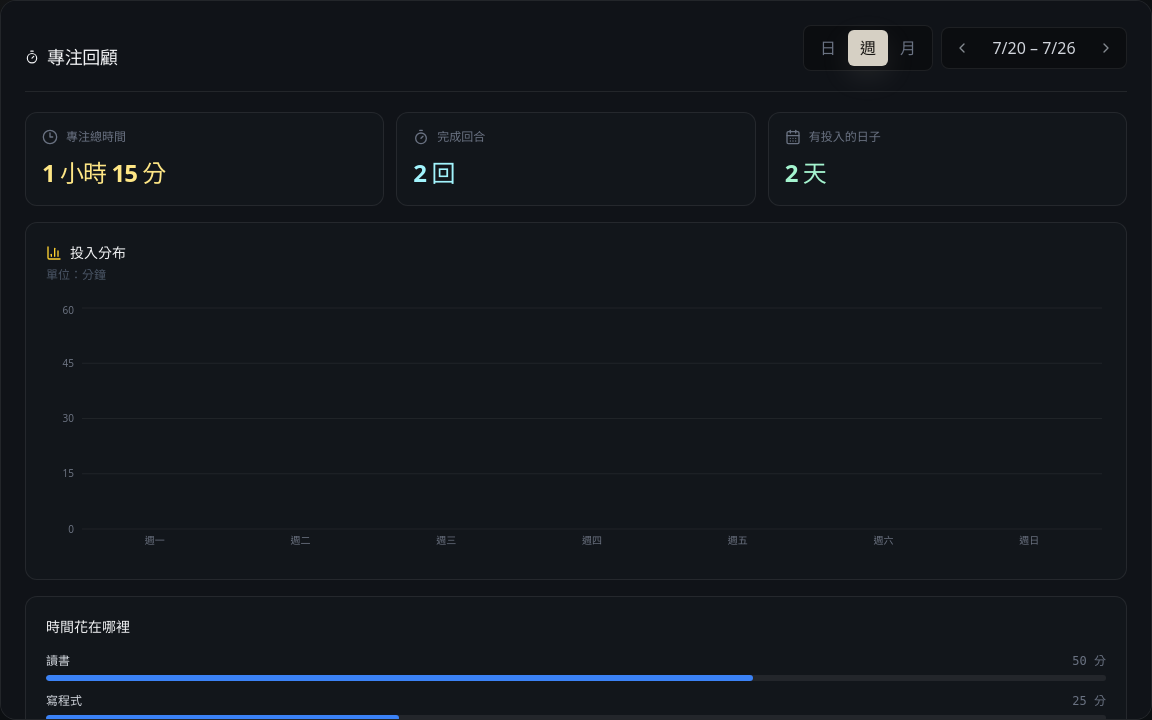
Test case: FocusDashboard › switches between week and month totals
Click the button "月" at coordinates (908, 48), box [888,30,928,66]
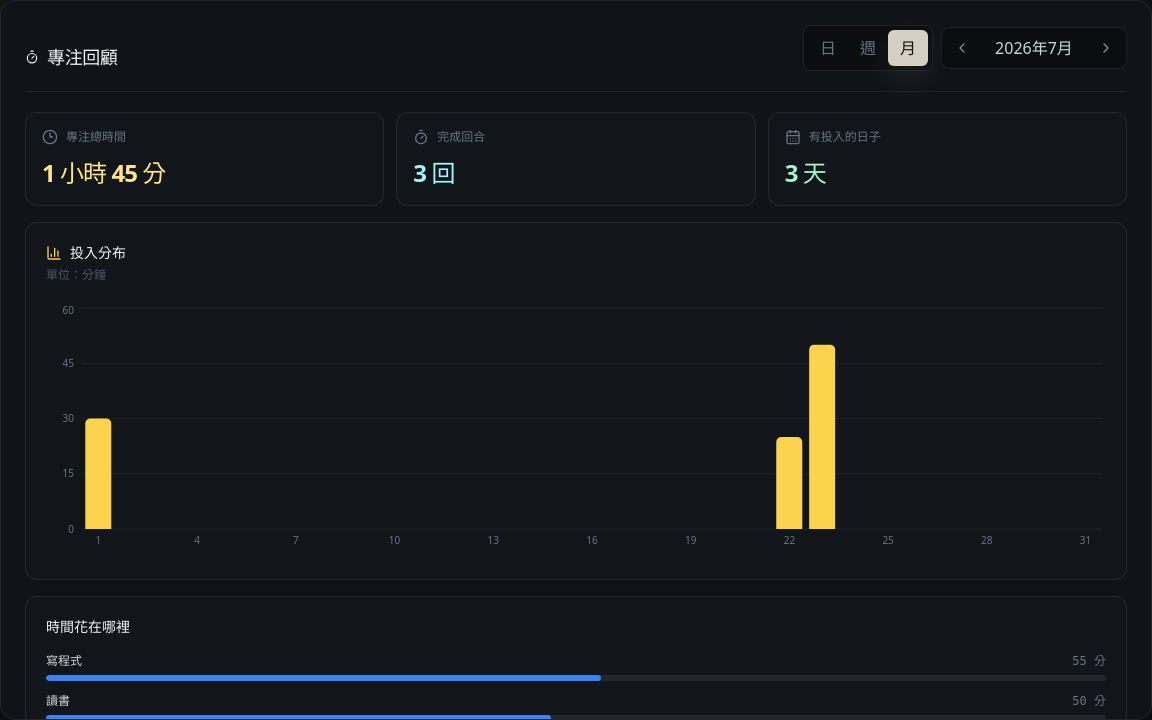
Now the text "1 小時 45 分" is shown, box [42,156,165,189]
Now the text "3 回" is shown, box [413,156,454,189]
Now the text "3 天" is shown, box [785,156,826,189]
